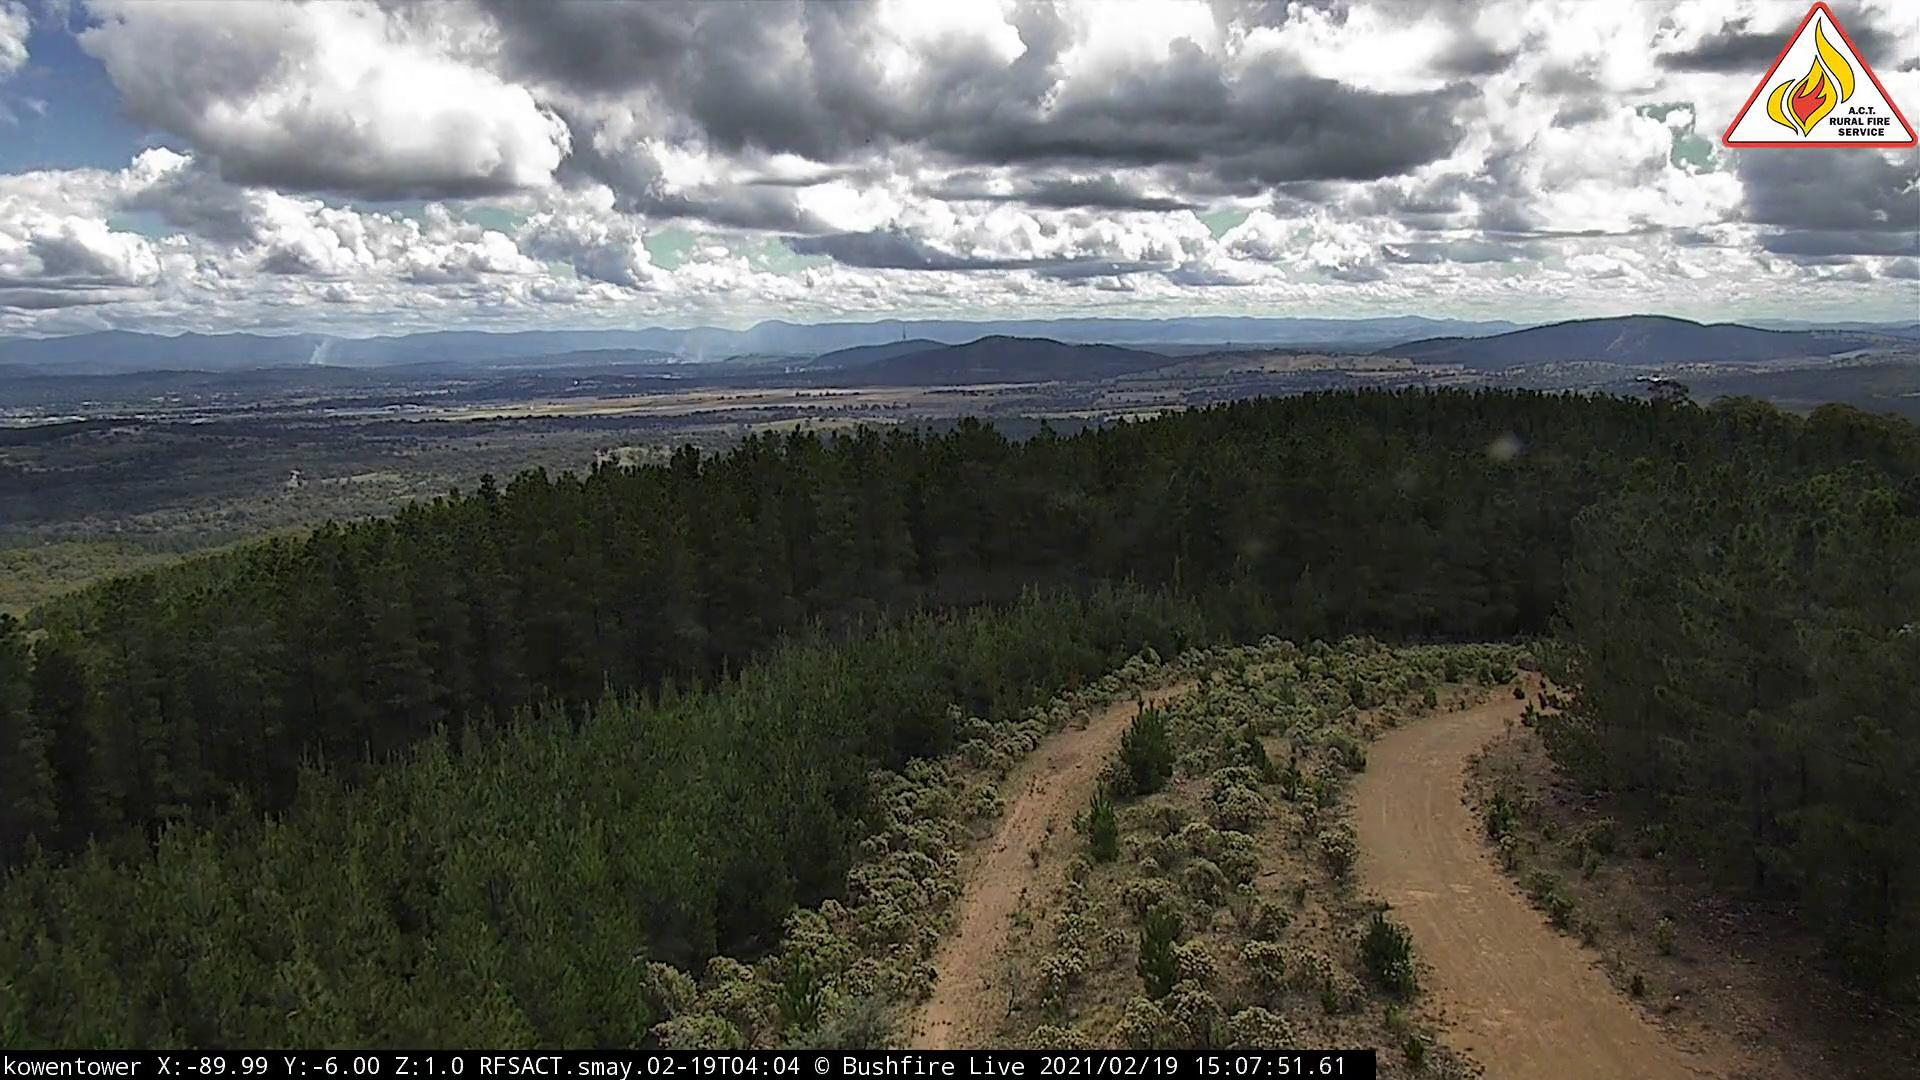Smoke: (658, 316, 731, 375), (299, 334, 355, 372)
